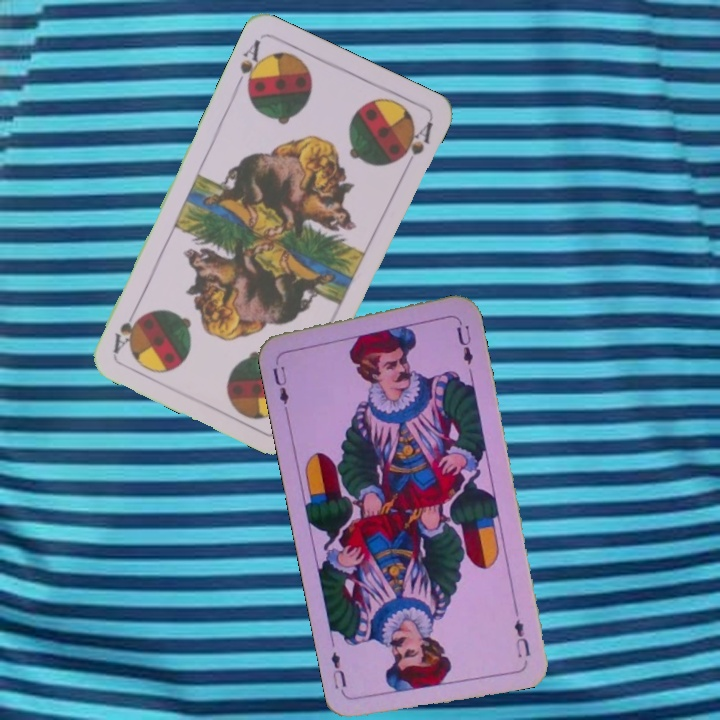EU: (510, 603, 533, 660), (269, 362, 292, 414)
SA: (231, 35, 268, 96)
